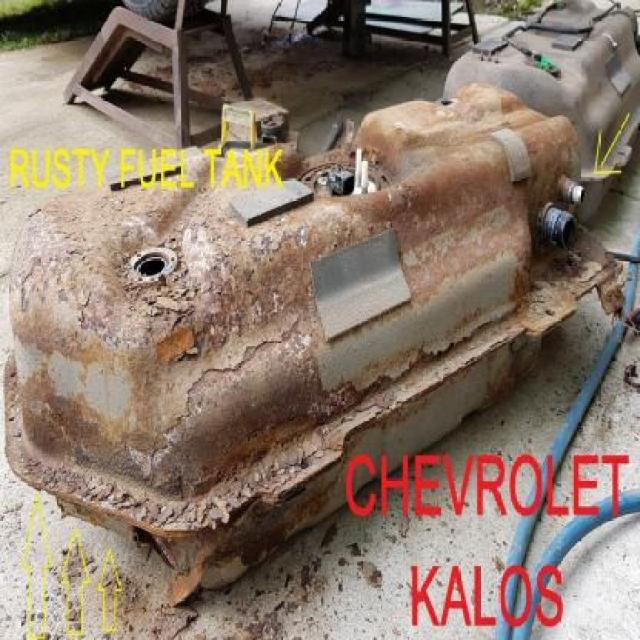corrosion: (7, 76, 628, 610)
